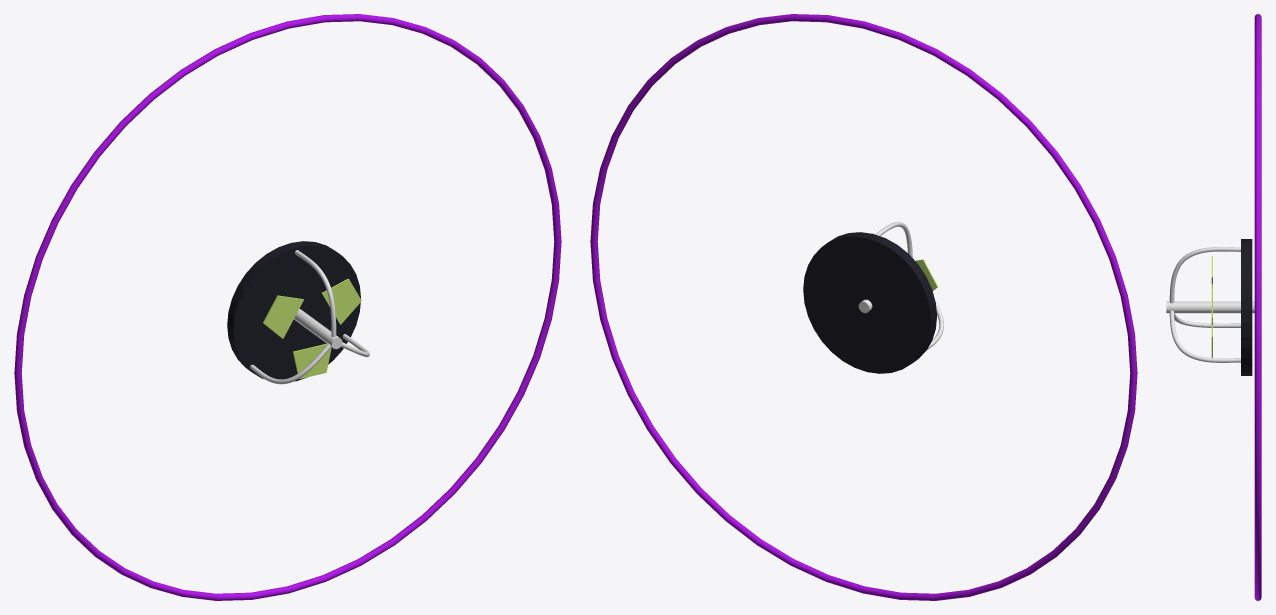
Rendered from leber-lgk-31.glb.
The picture shows the model from 3 angles, left to right: view 1: azimuth 30°, elevation 25°; view 2: azimuth 150°, elevation 25°; view 3: azimuth 270°, elevation 25°; orthographic projection. The views are drawn at different scales.
Parts seen in each view (by area): view 1: _outline.003, Cylinder.023, BézierCurve, Cube.030, Cube.031, Cube.032; view 2: Cylinder.023, _outline.003; view 3: _outline.003, Cylinder.023, BézierCurve, Cylinder.024.
Part boxes in pixels (x1,y1,x2,y2): _outline.003: (14,14,561,600); Cylinder.023: (227,241,360,381); BézierCurve: (250,250,369,384); Cube.030: (263,295,303,338); Cube.031: (322,278,361,324); Cube.032: (293,343,331,379); Cylinder.023: (803,232,936,373); _outline.003: (590,14,1137,600); _outline.003: (1254,14,1261,600); Cylinder.023: (1241,239,1252,375); BézierCurve: (1169,247,1240,362); Cylinder.024: (1166,301,1254,313).
Size of the model in its own units: 5.13 by 5.13 by 0.83.
